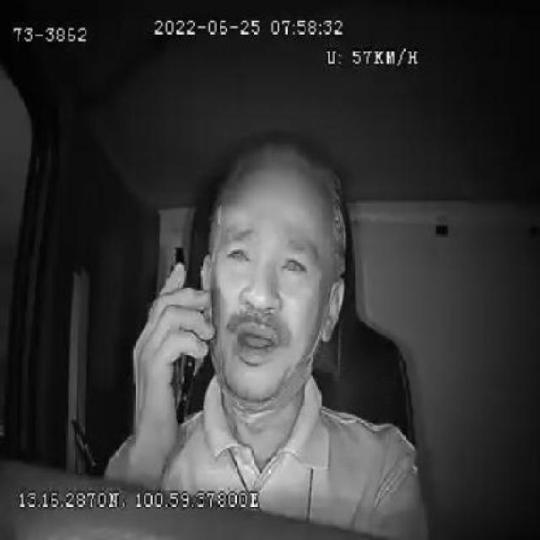phone: (163, 238, 199, 429)
